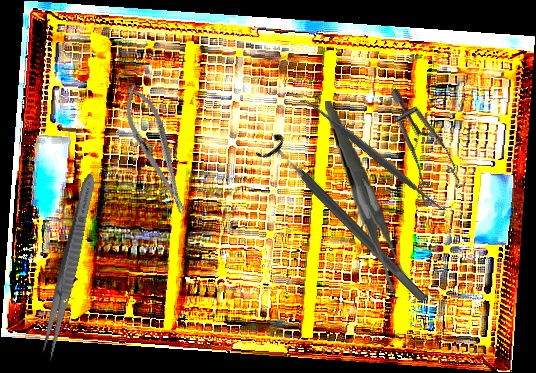Dressing Forceps: (324, 97, 409, 294), (37, 172, 101, 363)
Fixation Ring: (253, 128, 437, 313)
Needle Holder: (115, 80, 197, 219)
Spatula Surgical: (297, 89, 453, 221)
Speculum: (349, 87, 487, 218)
